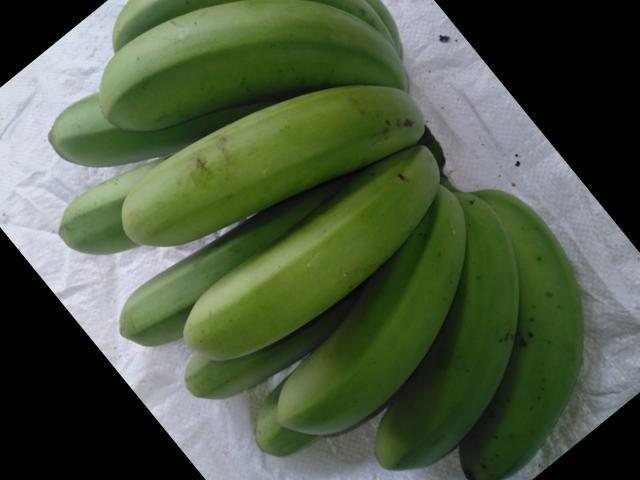freshunripe: (121, 76, 432, 249), (187, 149, 454, 343), (289, 204, 471, 441), (88, 4, 396, 112)
